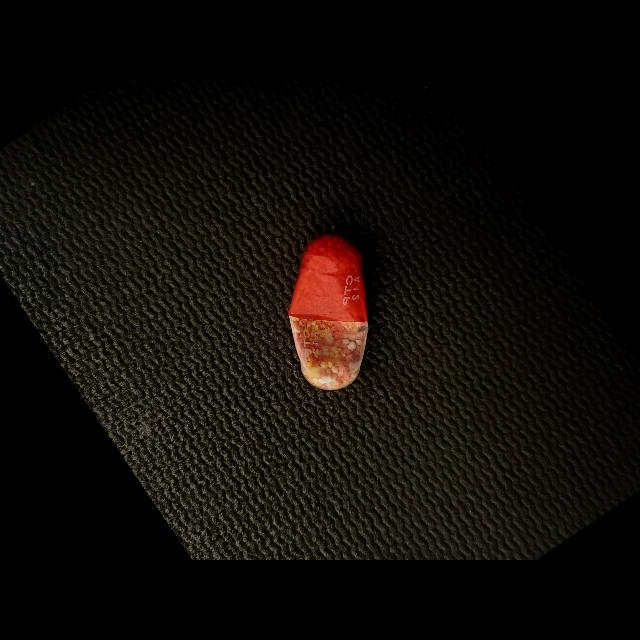Defective Capsule: (288, 234, 368, 391)
